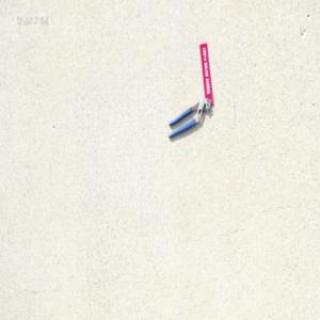LuggageTagtrack_idkeyframe: (199, 40, 213, 104)
Pliertrack_idkeyframe: (166, 95, 211, 139)
